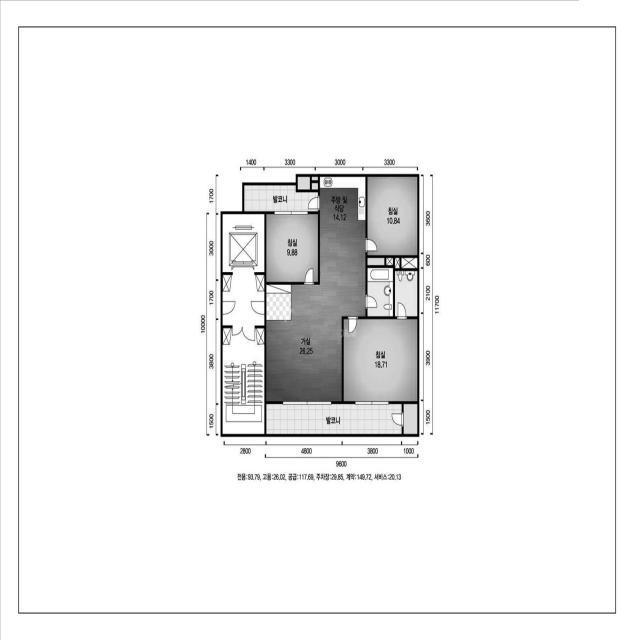space_balconi: (266, 404, 417, 434), (244, 185, 318, 212)
space_bedroom: (344, 319, 417, 401), (367, 177, 417, 255), (266, 214, 319, 282)
space_elevator: (222, 214, 264, 272)
space_front: (266, 284, 291, 320)
space_kitchen: (320, 177, 366, 285)
space_living_room: (266, 284, 366, 402)
space_other: (223, 275, 265, 326), (401, 258, 418, 269), (298, 177, 310, 190), (367, 258, 385, 265), (386, 258, 393, 266), (395, 258, 400, 268), (312, 183, 318, 190), (312, 177, 318, 181)
space_staircase: (222, 328, 264, 434)
space_toilet: (367, 268, 393, 317), (395, 271, 417, 317)
